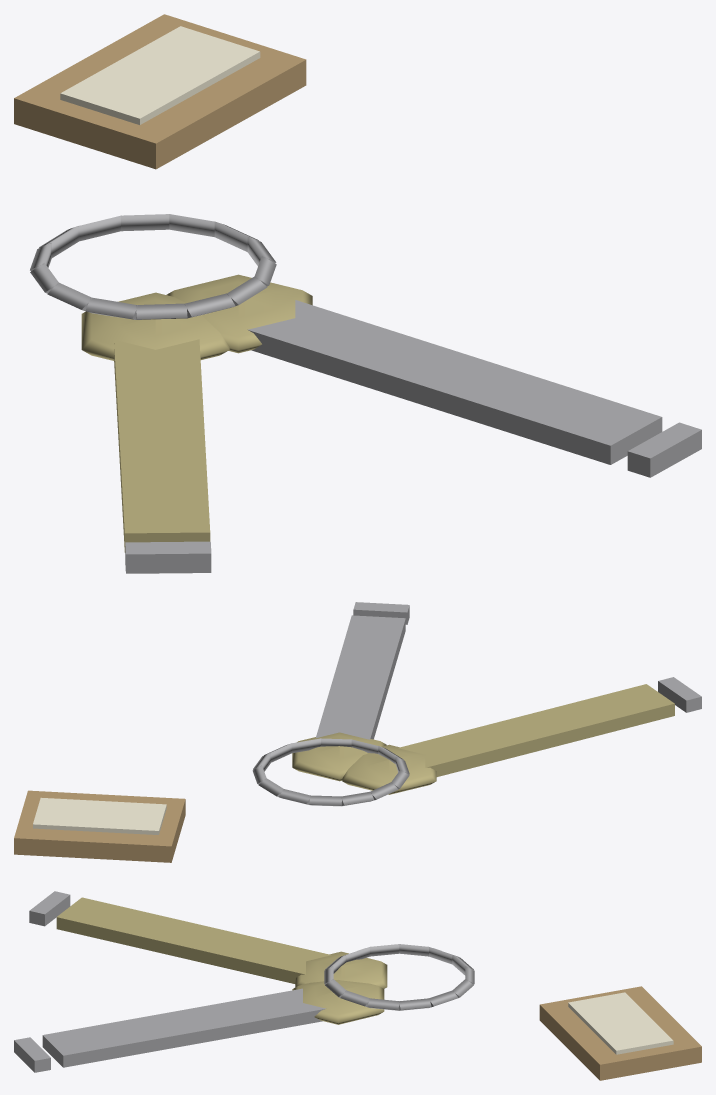
File: car_keys_a.glb
3 renders of one model, top to bottom at view 1: azimuth 30°, elevation 25°; view 2: azimuth 150°, elevation 25°; view 3: azimuth 270°, elevation 25°, orthographic. The views are drawn at different scales.
Visible parts, largest first — view 1: body; view 2: body; view 3: body.
Boxes of the visible parts, x1=… form: body: x1=14, y1=14, x2=701, y2=573; body: x1=14, y1=602, x2=701, y2=862; body: x1=14, y1=891, x2=701, y2=1080.
Bounding box in the file's own units: 0.1004 × 0.0085 × 0.1554.
